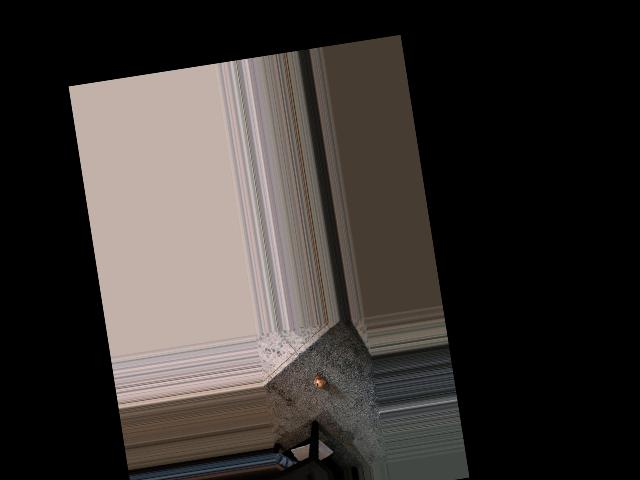onion: (312, 372, 331, 389)
